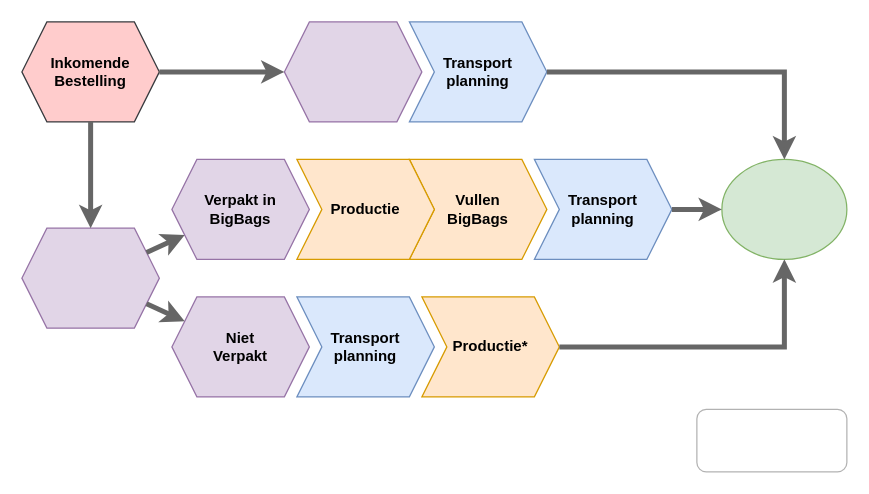
The diagram is 869 pixels wide and 494 high, and some of its shapes have lost their labels. Here are the shapes that lost their labels. From the top down, the centre of each, then its label:
the point at 352,71: Bestelling Zakken
the point at 784,208: Klant
the point at 90,277: Bestelling Bulk
the point at 771,440: * geldig voor zowel grondstoffen als teeltsubstraten
